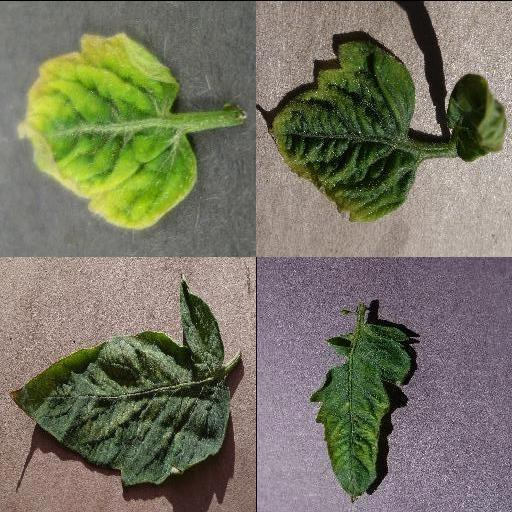Mosaic Virus: (308, 320, 412, 504)
Spider Mites: (7, 272, 229, 484)
Yellow Leaf Curl Virus: (16, 32, 198, 228), (269, 39, 415, 221)
